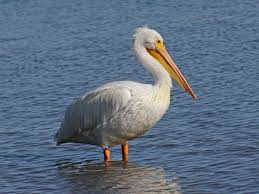pelican: (55, 27, 197, 169)
